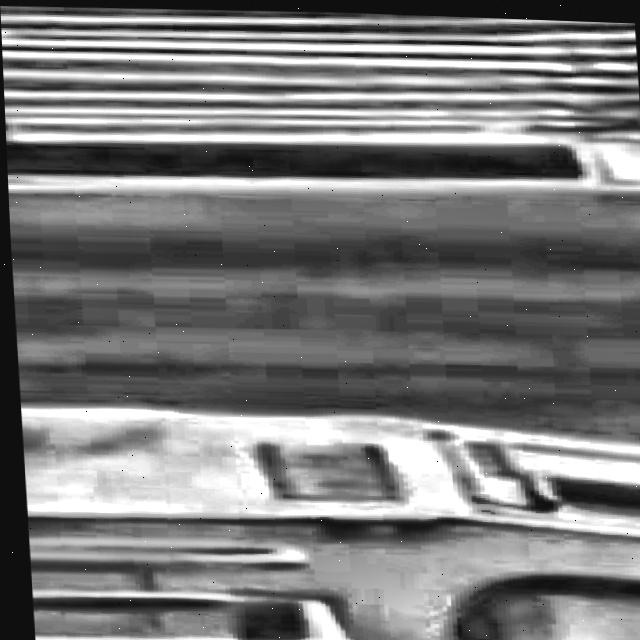Kereta: (0, 0, 640, 594)
Lokomotif: (12, 344, 640, 640)
